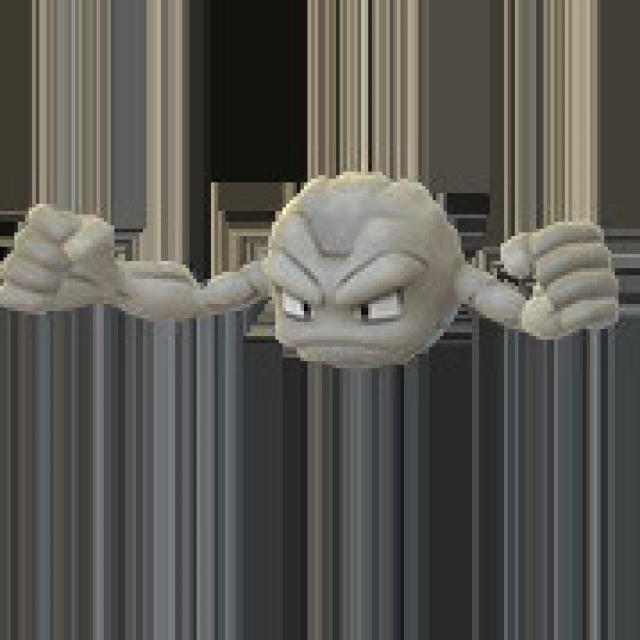Geodude: (6, 148, 640, 396)
